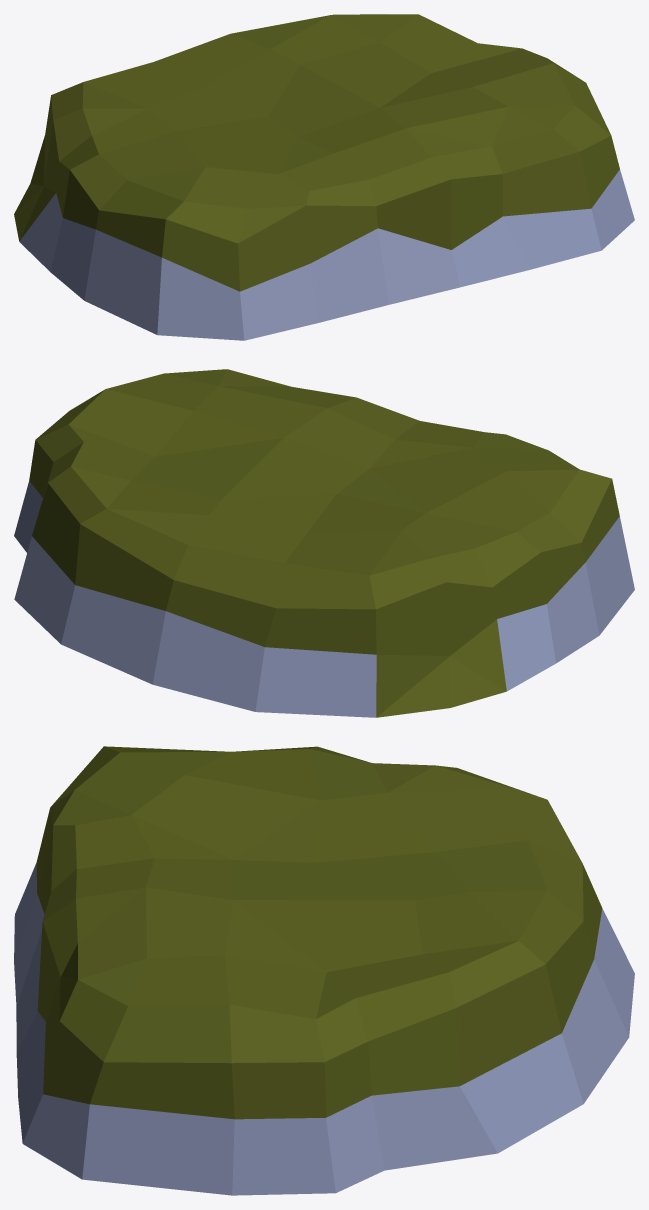
File: Island_3.fbx
3 views of the same model, one above another, from view 1: azimuth 30°, elevation 25°; view 2: azimuth 150°, elevation 25°; view 3: azimuth 270°, elevation 25° (orthographic). The views are drawn at different scales.
Parts seen in each view (by area): view 1: Island_3; view 2: Island_3; view 3: Island_3.
Boxes of the visible parts, x1=… form: Island_3: x1=14, y1=14, x2=634, y2=340; Island_3: x1=14, y1=369, x2=634, y2=717; Island_3: x1=14, y1=746, x2=634, y2=1195.
Bounding box in the file's own units: 18.89 × 4.3 × 14.96.
